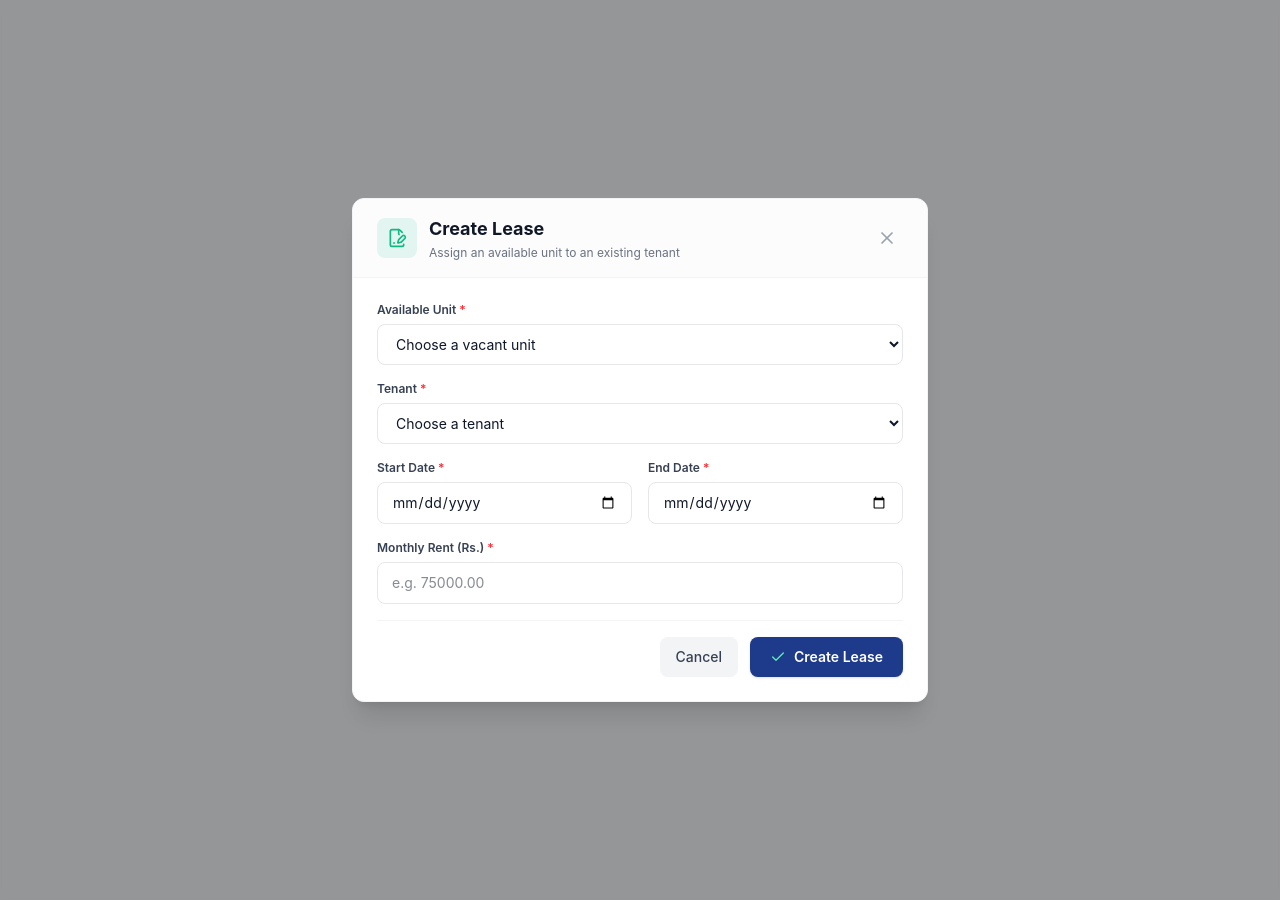
Test case: Lease creation form › rejects the boundary where the lease ends on its start date
Step 1. Select "Lakeview Residences - Unit A-101 (Floor 1)" in the 1st dropdown → [640, 344], box top-left (377, 324), bottom-right (903, 365)
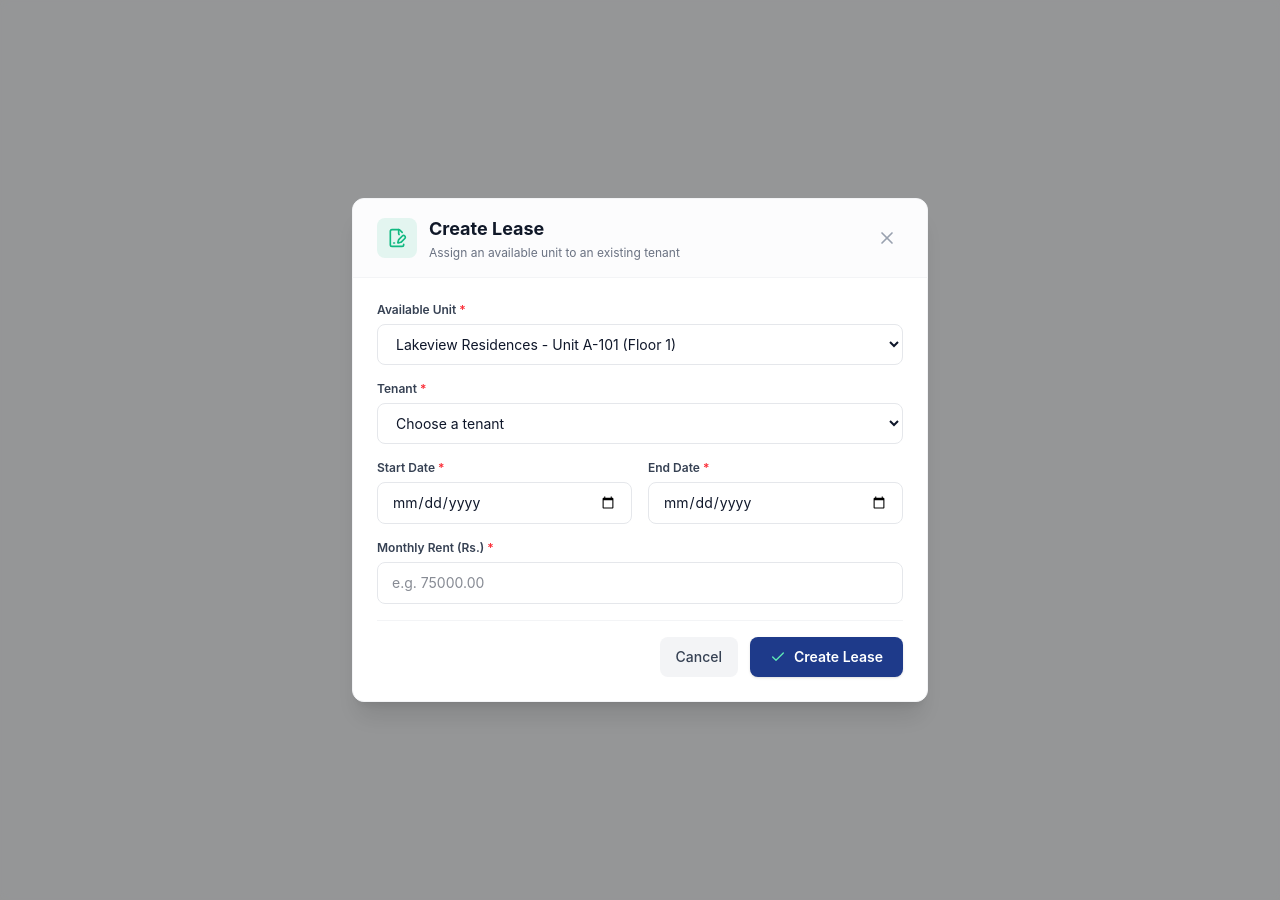
Step 2. Select "Nimal Perera (nimal@example.com)" in the 2nd dropdown → [640, 424], box top-left (377, 403), bottom-right (903, 444)
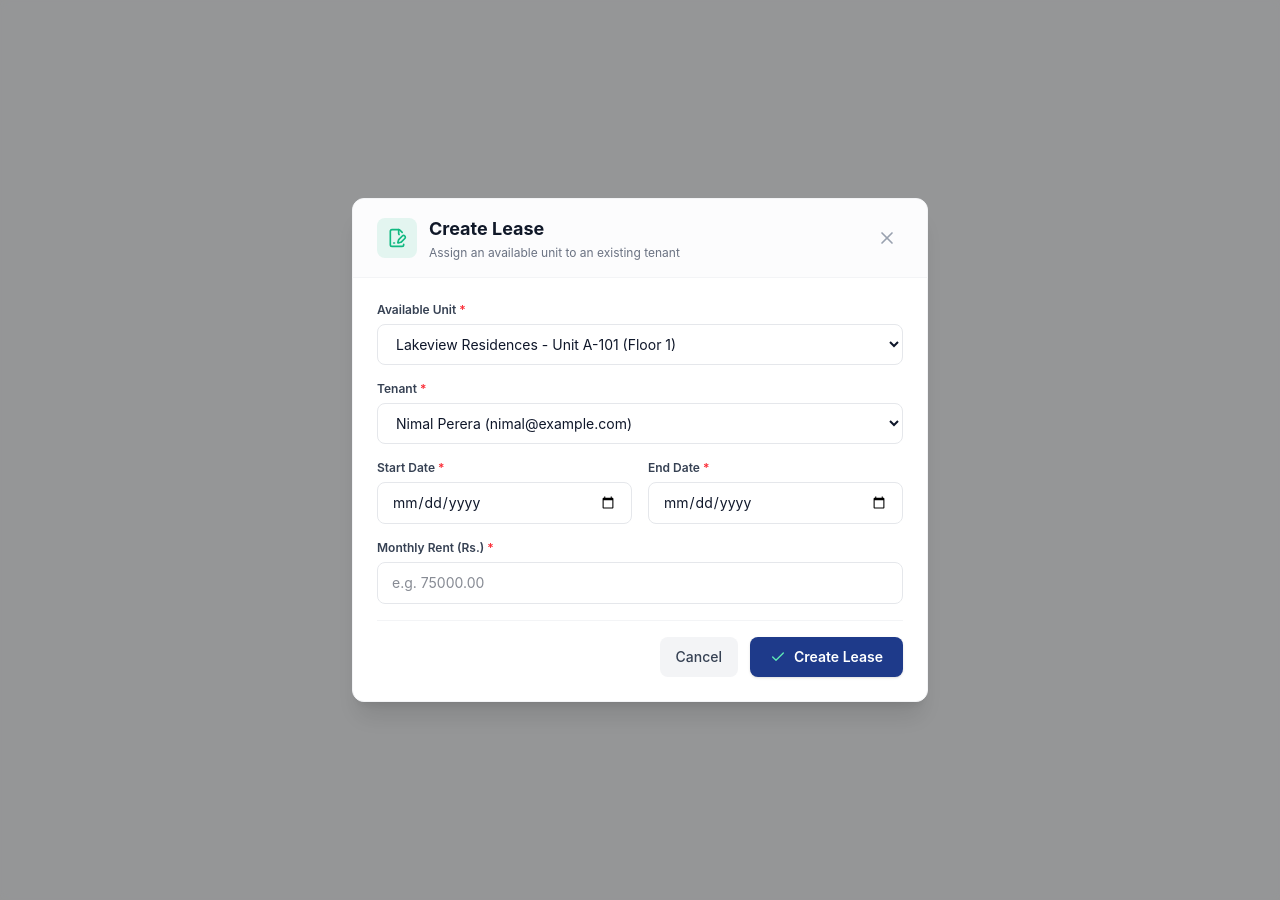
Step 3. Type "2026-10-01" into the date field named "startDate" below "Start Date" → [504, 503], box top-left (377, 482), bottom-right (632, 524)
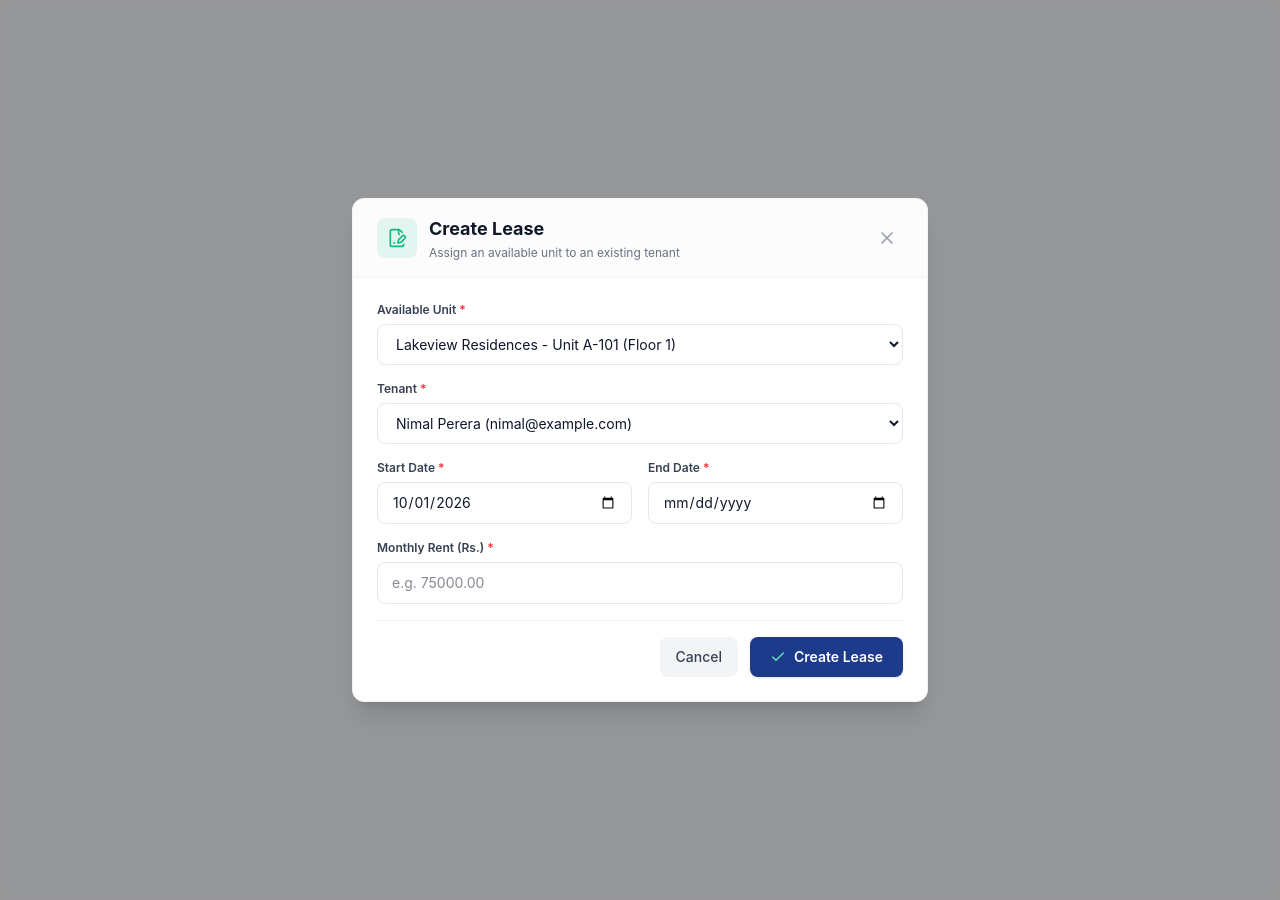
Step 4. Type "2026-10-01" into the date field named "endDate" below "End Date" → [776, 503], box top-left (648, 482), bottom-right (903, 524)
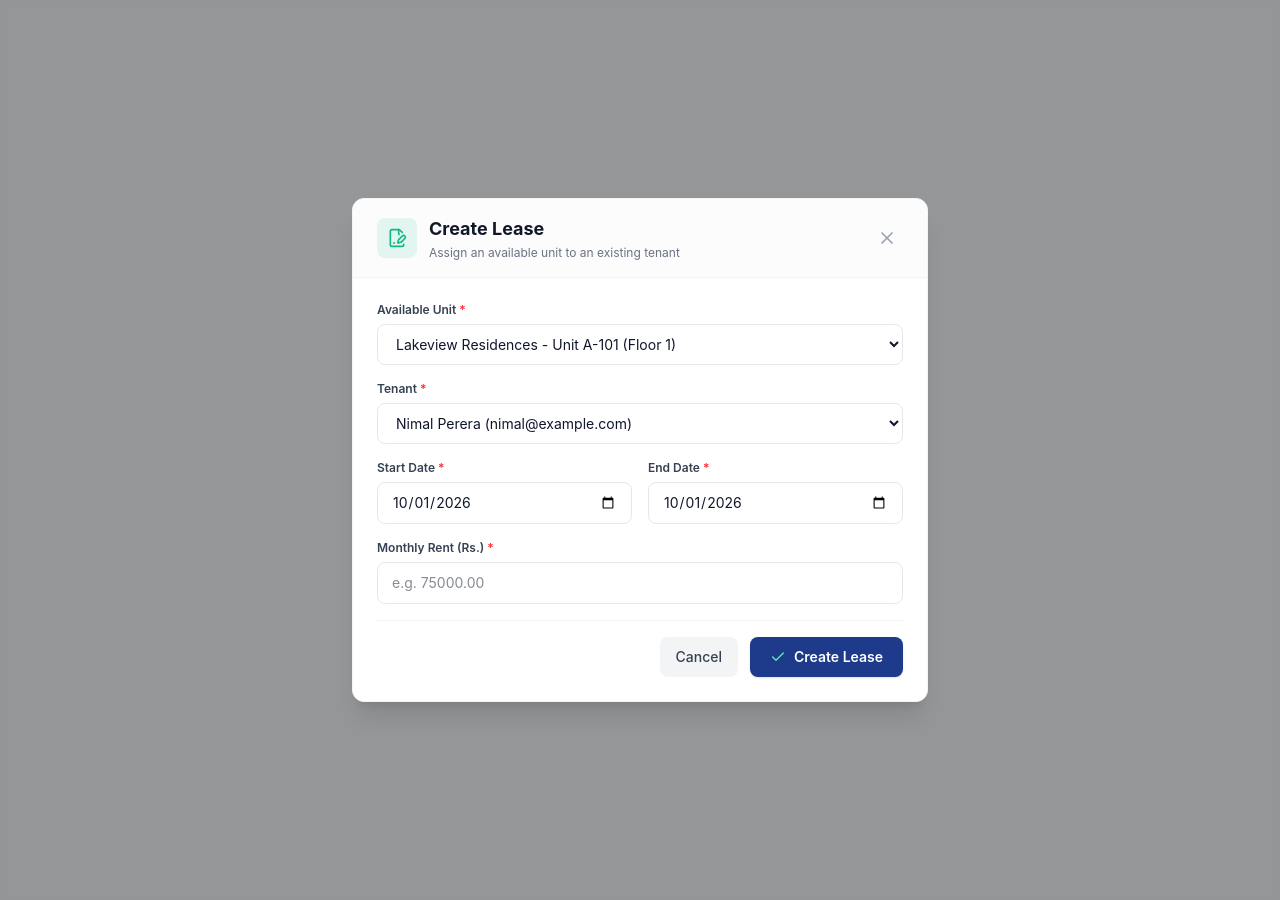
Step 5. Type "85000" into the number field with placeholder "e.g. 75000.00" → [640, 583], box top-left (377, 562), bottom-right (903, 604)
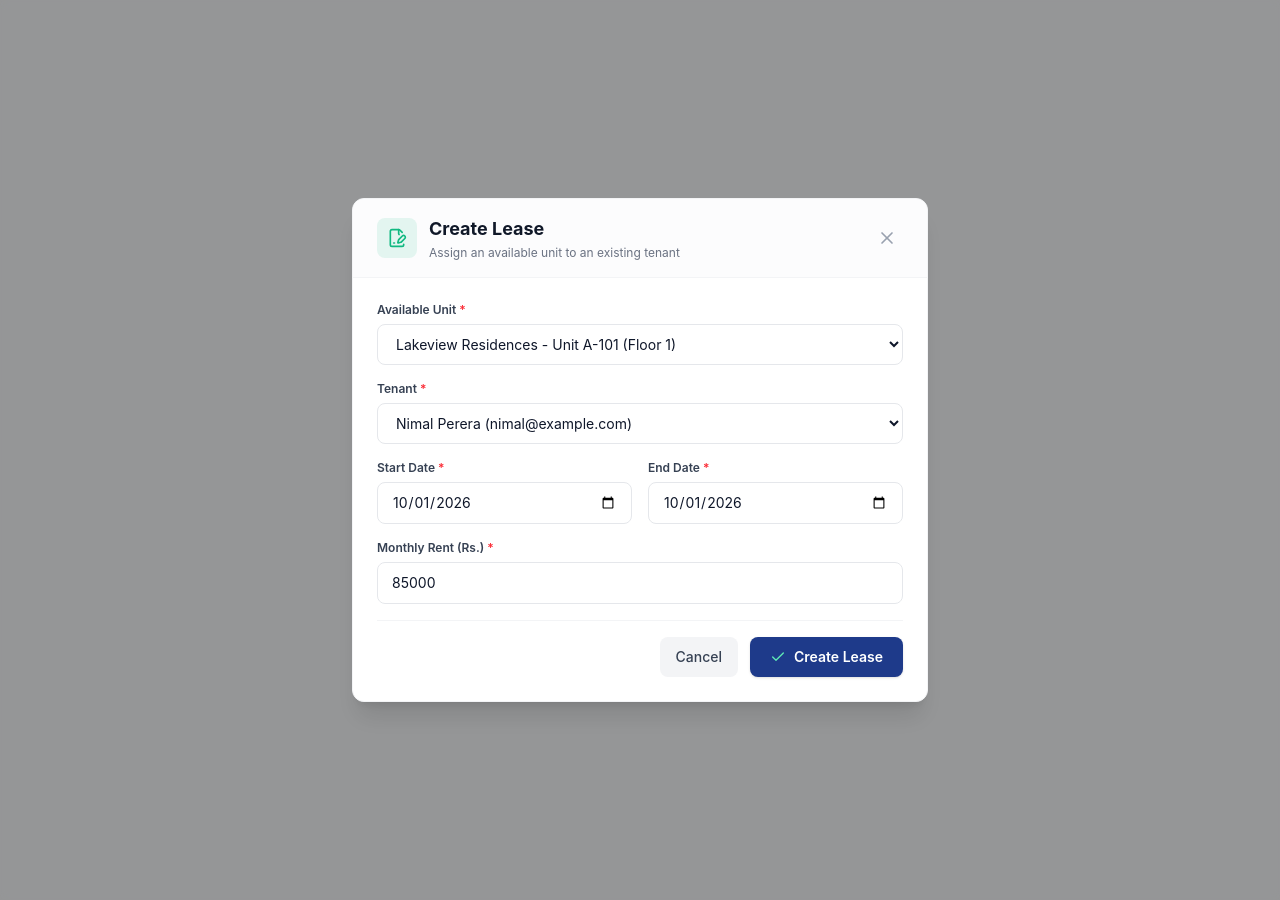
Step 6. Click the button "Create Lease" → [826, 657], box top-left (750, 637), bottom-right (903, 677)
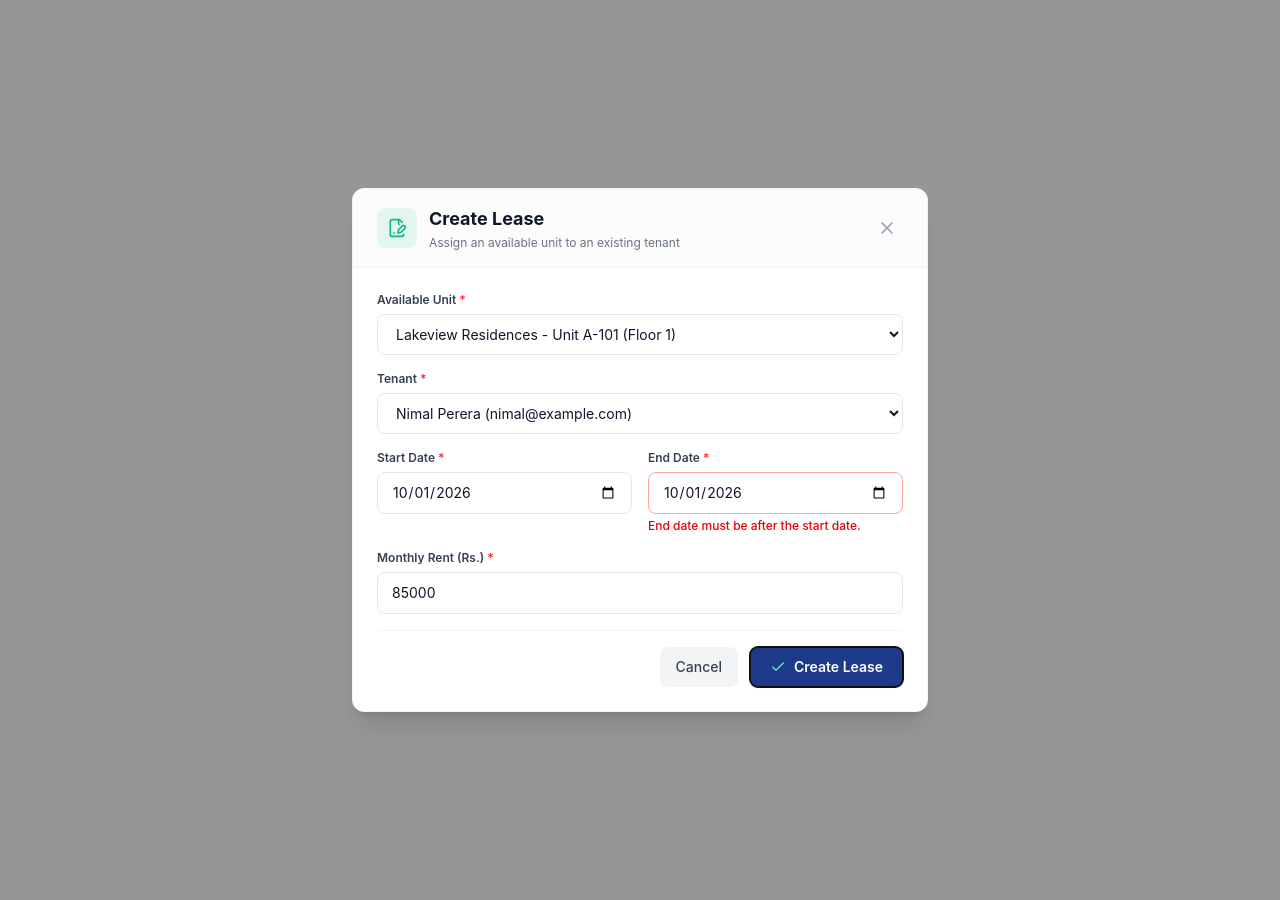
Check: the text "End date must be after the start date." is shown, box top-left (648, 518), bottom-right (861, 533)
